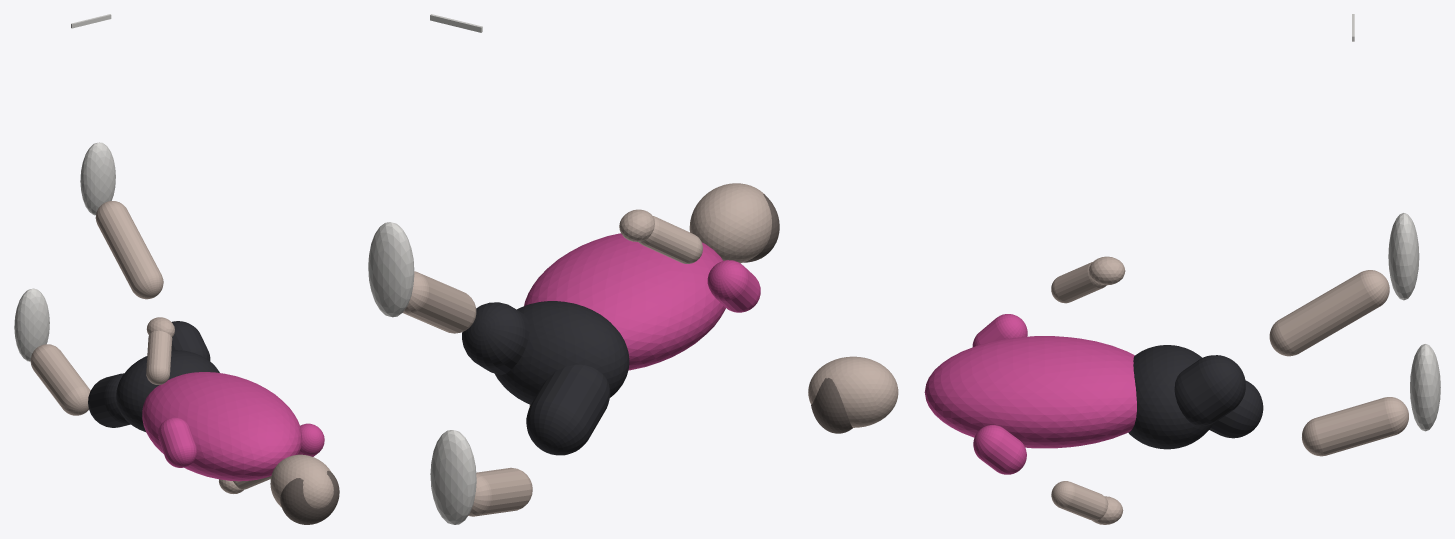
The model's file is athlete-run.glb.
3 renders of one model, left to right at view 1: azimuth 30°, elevation 25°; view 2: azimuth 150°, elevation 25°; view 3: azimuth 270°, elevation 25°, orthographic. The views are drawn at different scales.
Visible parts, largest first — view 1: GARMENT_TORSO, BODY_CALF_R, GARMENT_BIB_HIPS, BODY_CALF_L, BODY_HEAD, SHOE_R, SHOE_L, BODY_HAIR, GARMENT_SLEEVE_L, GARMENT_BIB_LEG_L, BODY_FOREARM_L, GARMENT_BIB_LEG_R (+2 smaller); view 2: GARMENT_TORSO, GARMENT_BIB_HIPS, GARMENT_BIB_LEG_L, BODY_HEAD, GARMENT_BIB_LEG_R, SHOE_L, SHOE_R, BODY_CALF_R, BODY_CALF_L, GARMENT_SLEEVE_L, BODY_FOREARM_L, BODY_HAND_L (+1 smaller); view 3: GARMENT_TORSO, GARMENT_BIB_HIPS, BODY_CALF_R, BODY_CALF_L, BODY_HEAD, GARMENT_BIB_LEG_R, SHOE_L, SHOE_R, GARMENT_SLEEVE_R, GARMENT_BIB_LEG_L, BODY_FOREARM_R, BODY_HAIR (+3 smaller).
Boxes of the visible parts, left/top/right/bottom form: GARMENT_TORSO: left=142, top=372, right=301, bottom=481; BODY_CALF_R: left=95, top=201, right=163, bottom=299; GARMENT_BIB_HIPS: left=116, top=350, right=219, bottom=431; BODY_CALF_L: left=30, top=344, right=90, bottom=415; BODY_HEAD: left=270, top=454, right=333, bottom=508; SHOE_R: left=80, top=142, right=115, bottom=215; SHOE_L: left=14, top=288, right=49, bottom=361; BODY_HAIR: left=280, top=470, right=339, bottom=524; GARMENT_SLEEVE_L: left=158, top=417, right=196, bottom=467; GARMENT_BIB_LEG_L: left=88, top=373, right=130, bottom=427; BODY_FOREARM_L: left=146, top=330, right=172, bottom=384; GARMENT_BIB_LEG_R: left=171, top=321, right=210, bottom=360; GARMENT_TORSO: left=524, top=233, right=725, bottom=370; GARMENT_BIB_HIPS: left=494, top=301, right=629, bottom=404; GARMENT_BIB_LEG_L: left=526, top=364, right=610, bottom=455; BODY_HEAD: left=689, top=183, right=771, bottom=263; GARMENT_BIB_LEG_R: left=462, top=302, right=529, bottom=374; SHOE_L: left=430, top=430, right=476, bottom=524; SHOE_R: left=368, top=222, right=414, bottom=317; BODY_CALF_R: left=403, top=271, right=476, bottom=333; BODY_CALF_L: left=468, top=467, right=532, bottom=516; GARMENT_SLEEVE_L: left=707, top=260, right=760, bottom=312; BODY_FOREARM_L: left=638, top=216, right=702, bottom=263; BODY_HAND_L: left=619, top=209, right=654, bottom=241; GARMENT_TORSO: left=924, top=336, right=1136, bottom=448; GARMENT_BIB_HIPS: left=1128, top=345, right=1213, bottom=449; BODY_CALF_R: left=1269, top=270, right=1389, bottom=356; BODY_CALF_L: left=1302, top=397, right=1408, bottom=456; BODY_HEAD: left=808, top=356, right=898, bottom=427; GARMENT_BIB_LEG_R: left=1174, top=355, right=1245, bottom=426; SHOE_L: left=1410, top=344, right=1440, bottom=431; SHOE_R: left=1388, top=213, right=1419, bottom=300; GARMENT_SLEEVE_R: left=973, top=425, right=1026, bottom=474; GARMENT_BIB_LEG_L: left=1209, top=380, right=1263, bottom=438; BODY_FOREARM_R: left=1051, top=481, right=1108, bottom=520; BODY_HAIR: left=811, top=378, right=852, bottom=433.
Size of the model in its own units: 0.9906 by 2.45 by 2.94.
